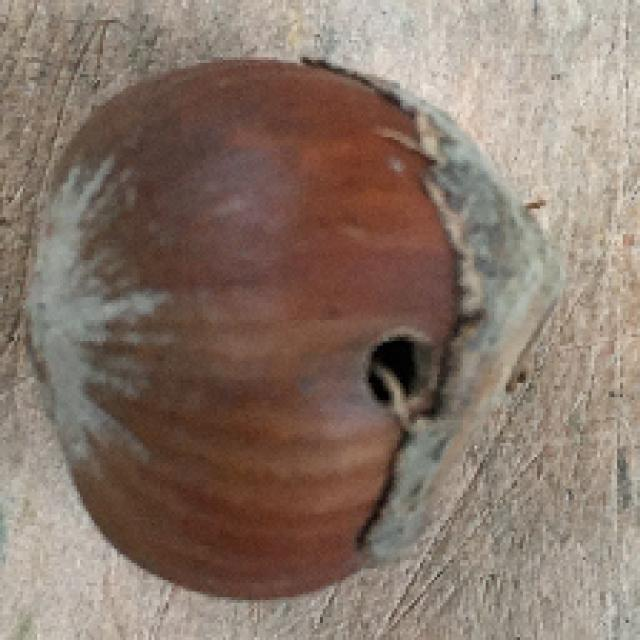damagedHazelnut: (16, 55, 556, 594)
